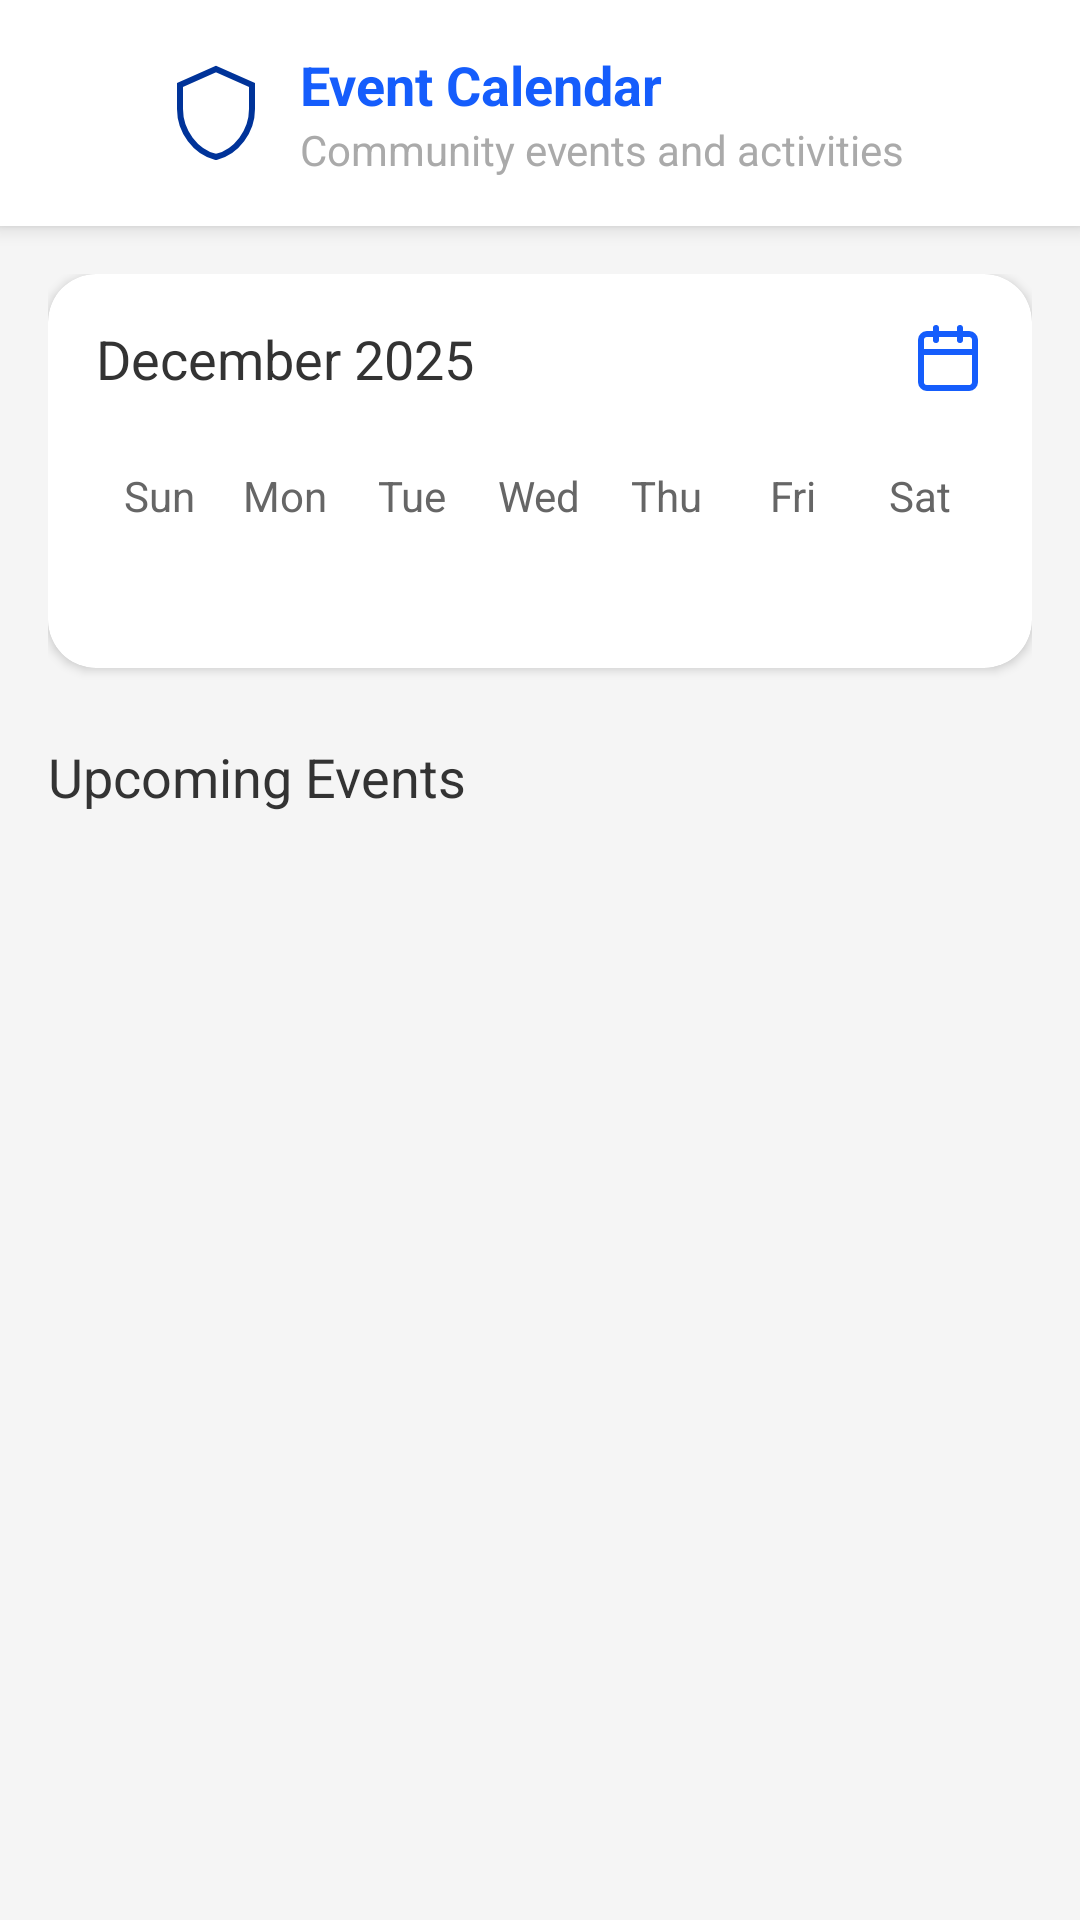

Icons on this 1080x1920 Android screen, each with the point to tap as (x=x, y=y):
calendar: (x=948, y=358)
shield: (x=216, y=113)
